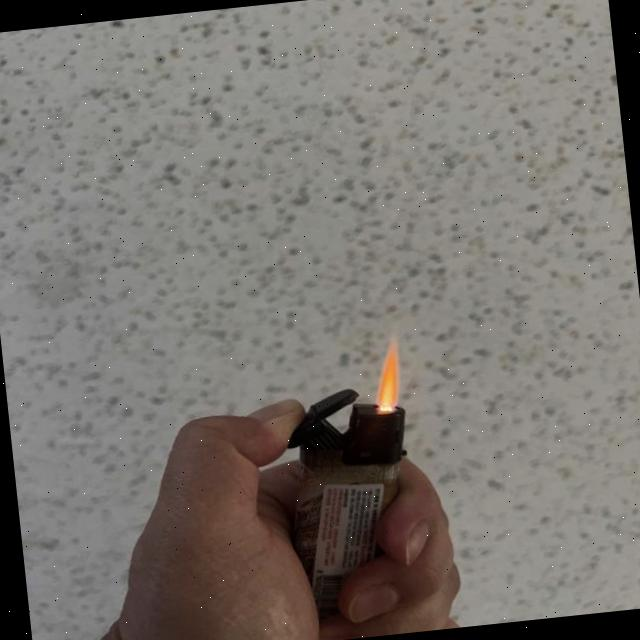fire: (368, 342, 404, 410)
